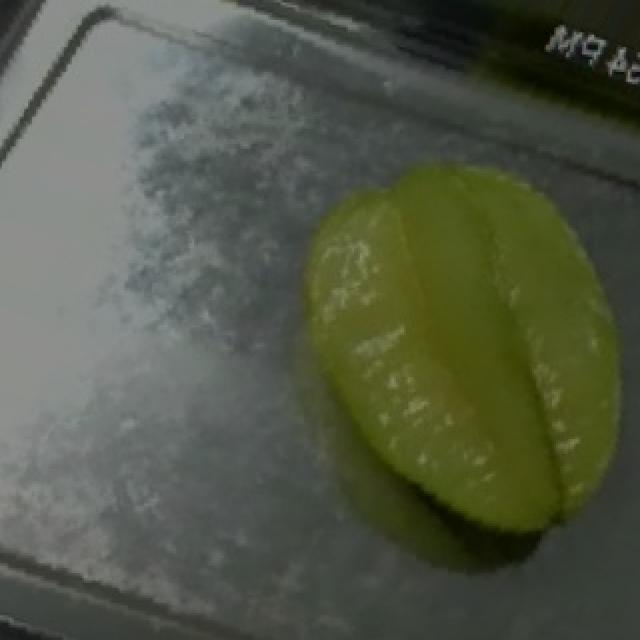fruit: (214, 104, 640, 561)
